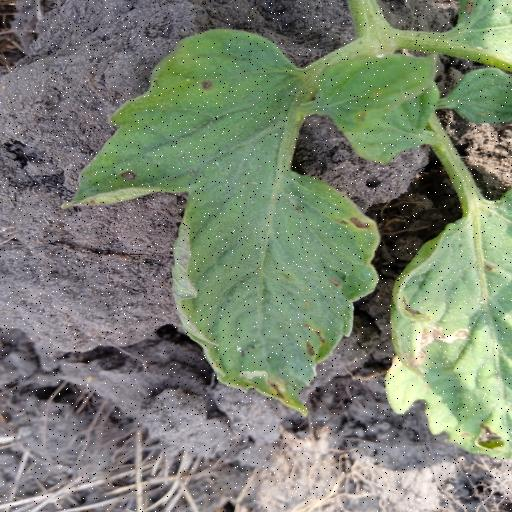Tomato_Mildiou: (71, 28, 437, 422)
